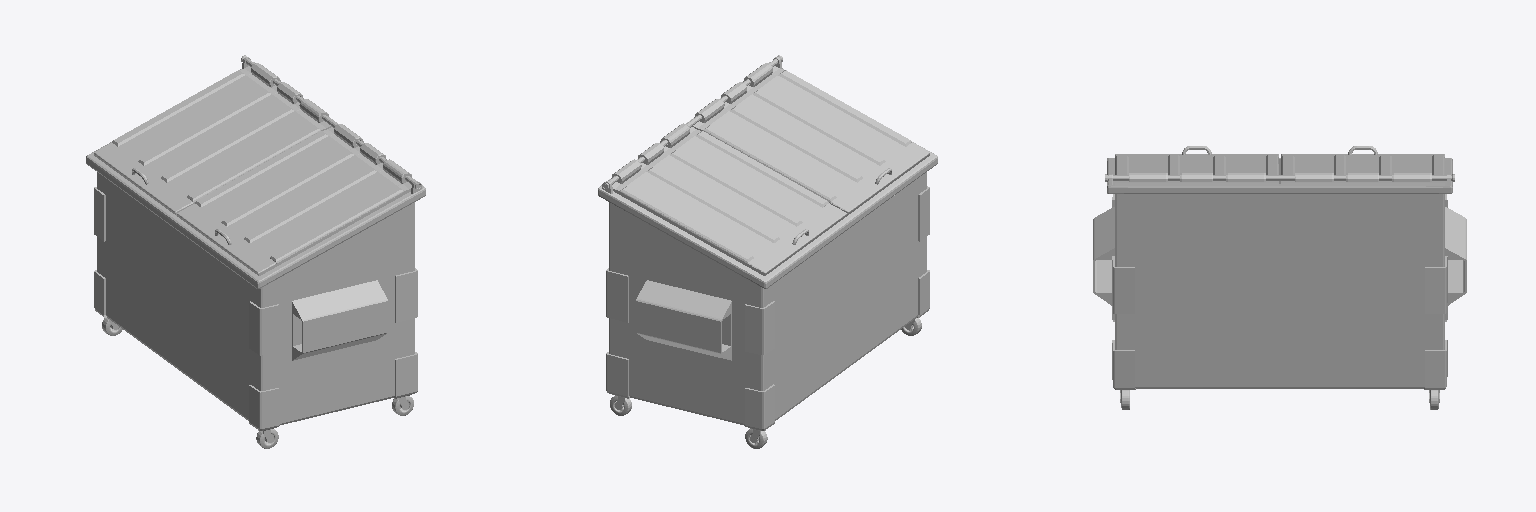
The model's file is container.obj.
3 views of the same model, side by side, from view 1: azimuth 30°, elevation 25°; view 2: azimuth 150°, elevation 25°; view 3: azimuth 270°, elevation 25° (orthographic).
Parts seen in each view (by area): view 1: Box001, Box002, Box003; view 2: Box001, Box003, Box002; view 3: Box001, Box002, Box003, Cylinder003.
Boxes of the visible parts, x1,y1,x2,y2 form: Box001: [86, 57, 425, 430]; Box002: [177, 124, 415, 275]; Box003: [94, 63, 336, 215]; Box001: [598, 57, 937, 430]; Box003: [609, 123, 847, 275]; Box002: [687, 63, 929, 215]; Box001: [1093, 158, 1466, 389]; Box002: [1115, 154, 1278, 185]; Box003: [1281, 154, 1444, 185]; Cylinder003: [1105, 174, 1454, 181].
Size of the model in its own units: 37.58 by 50.73 by 72.07.